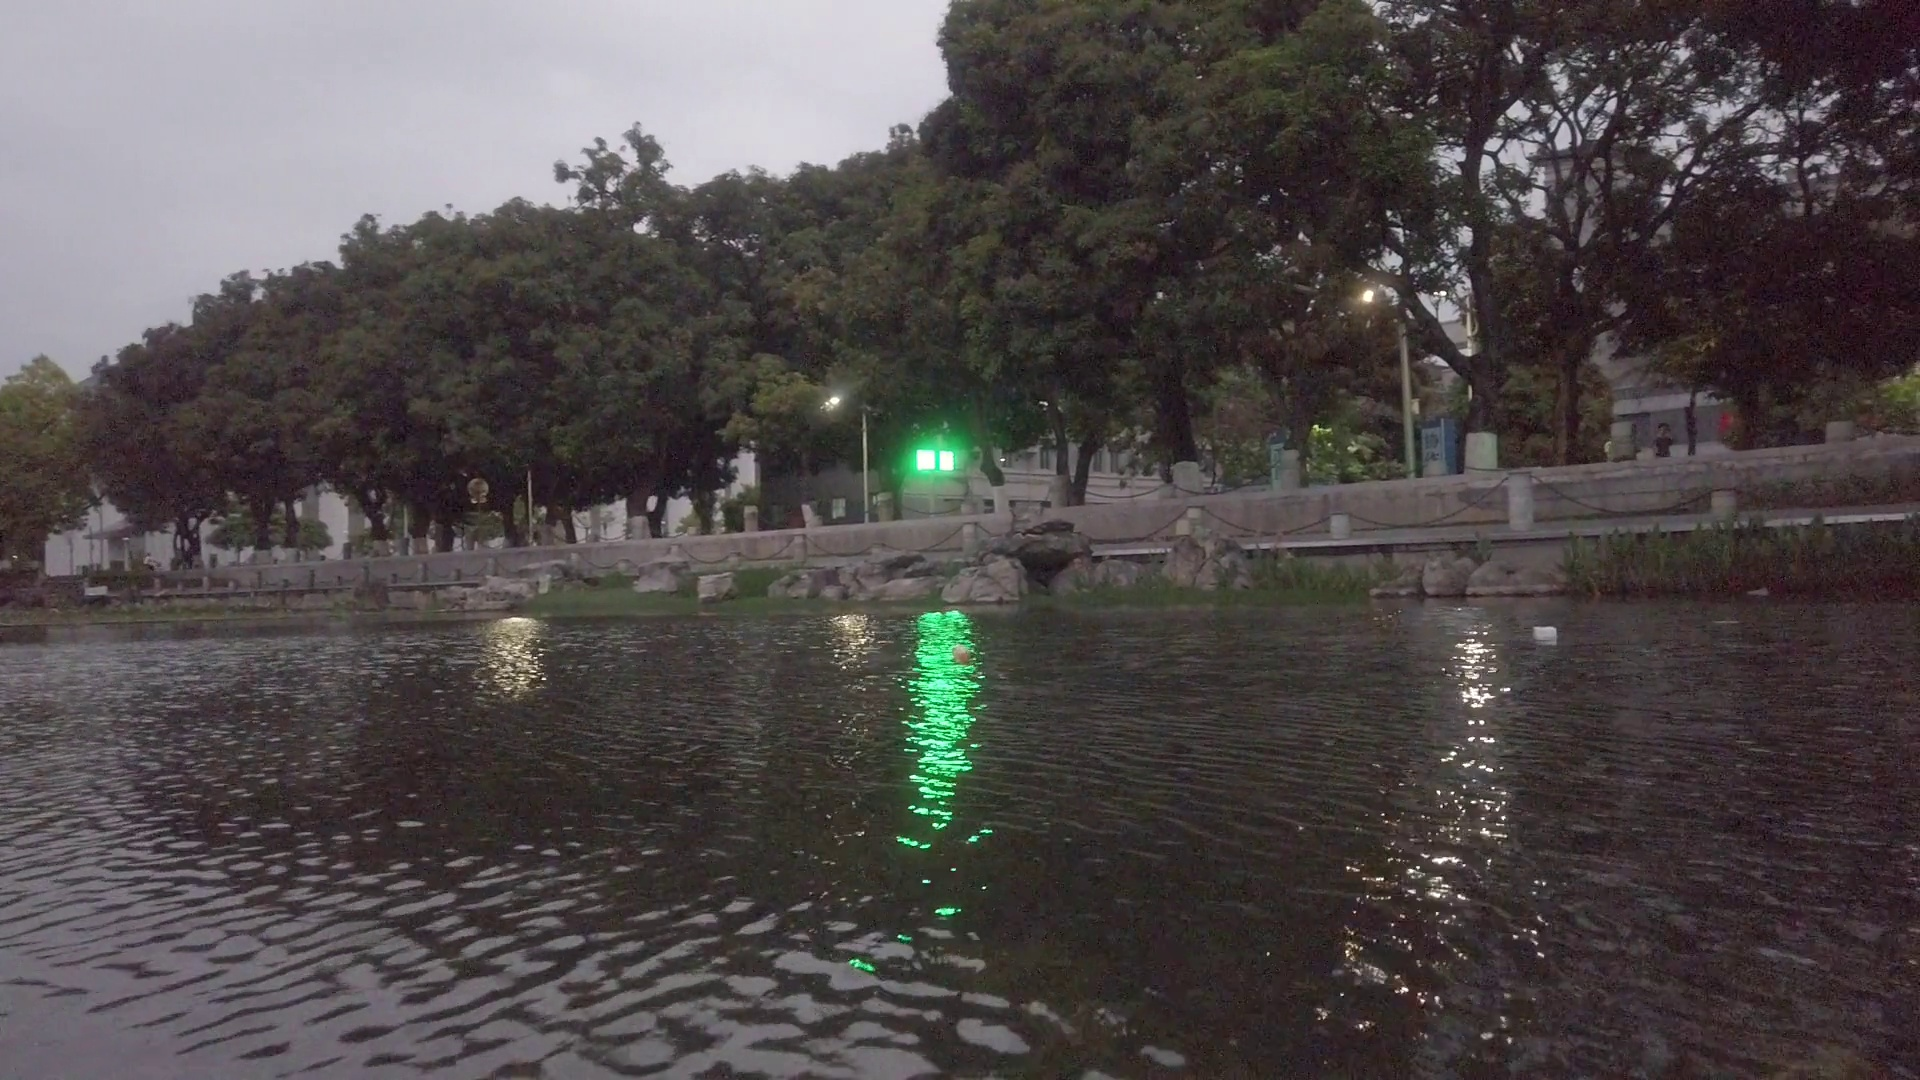bottle: (951, 644, 971, 665)
carton: (1531, 625, 1557, 640)
